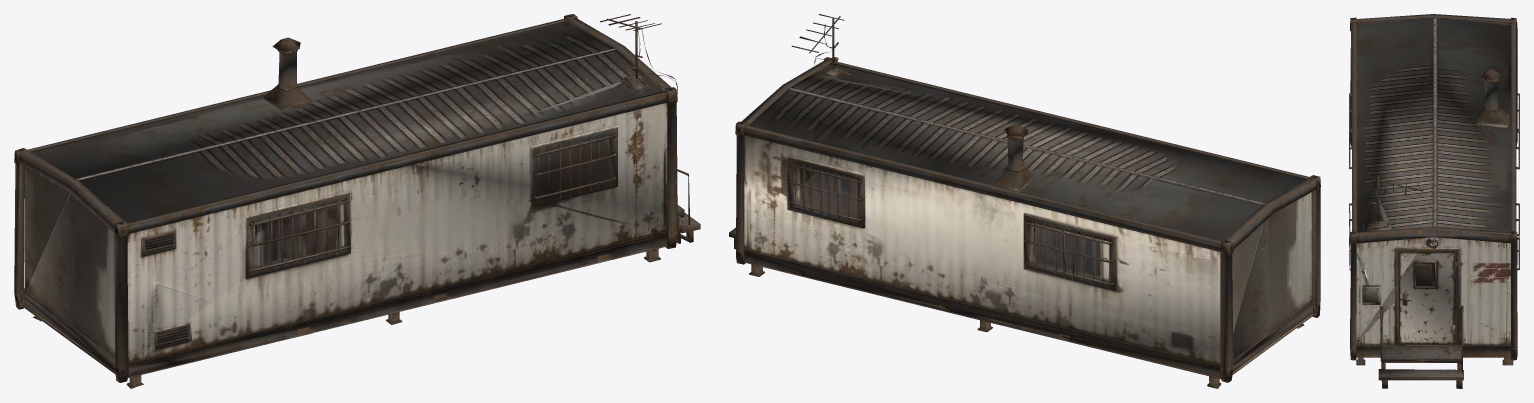
File: bandit_trailer_shed.glb
The picture shows the model from 3 angles, left to right: view 1: azimuth 30°, elevation 25°; view 2: azimuth 150°, elevation 25°; view 3: azimuth 270°, elevation 25°; orthographic projection. The views are drawn at different scales.
Parts seen in each view (by area): view 1: Meshy_AI_bandit_trailer_shed_3d_20261028_texture; view 2: Meshy_AI_bandit_trailer_shed_3d_20261028_texture; view 3: Meshy_AI_bandit_trailer_shed_3d_20261028_texture.
Part boxes in pixels (bbox=[...]): Meshy_AI_bandit_trailer_shed_3d_20261028_texture: bbox=[14, 14, 700, 388]; Meshy_AI_bandit_trailer_shed_3d_20261028_texture: bbox=[729, 14, 1320, 388]; Meshy_AI_bandit_trailer_shed_3d_20261028_texture: bbox=[1349, 14, 1519, 388].
Size of the model in its own units: 8 by 3.02 by 2.47.
Materials: 1 (1 with a texture image).
